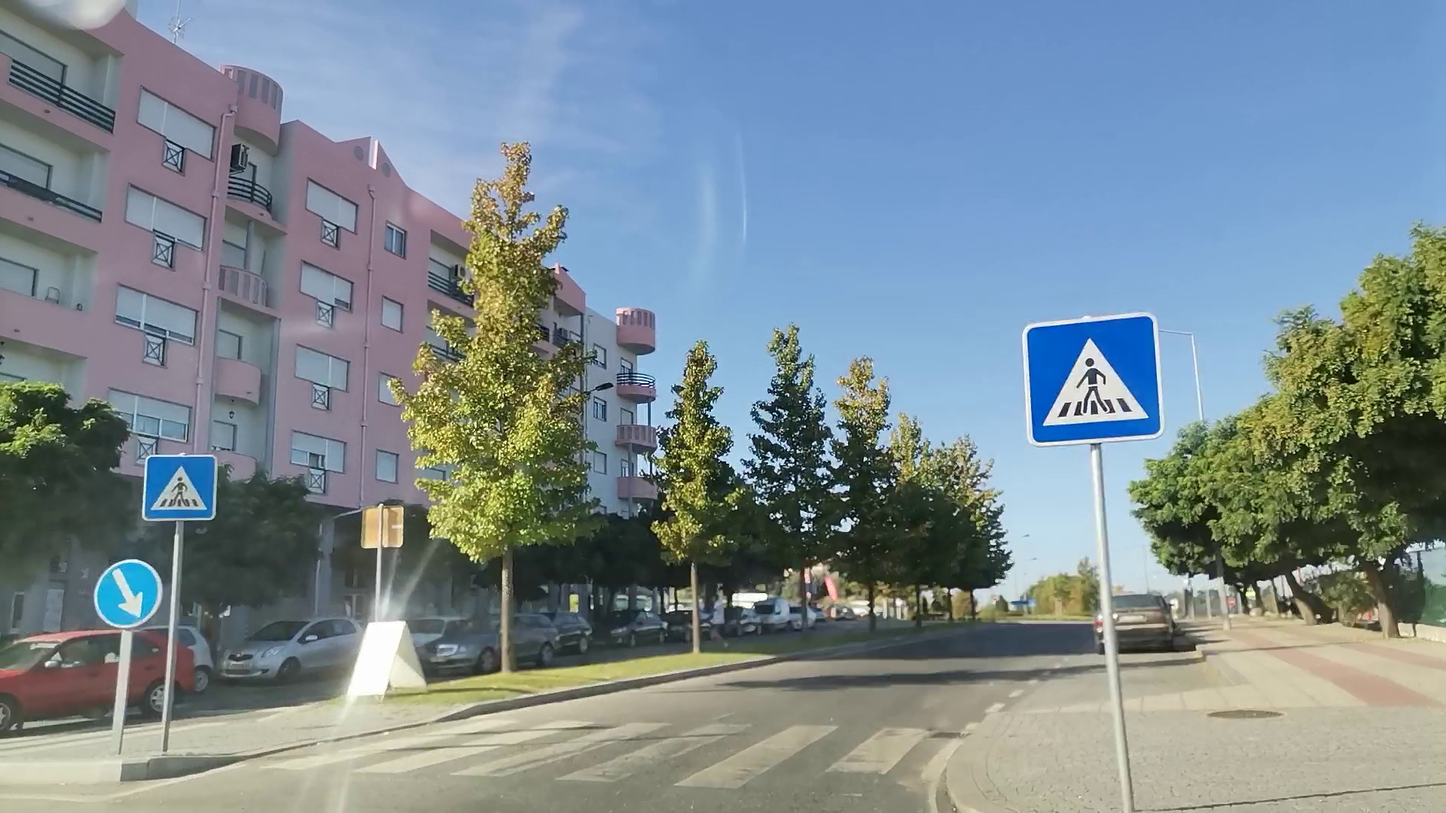Stairs: (314, 711, 942, 805)
